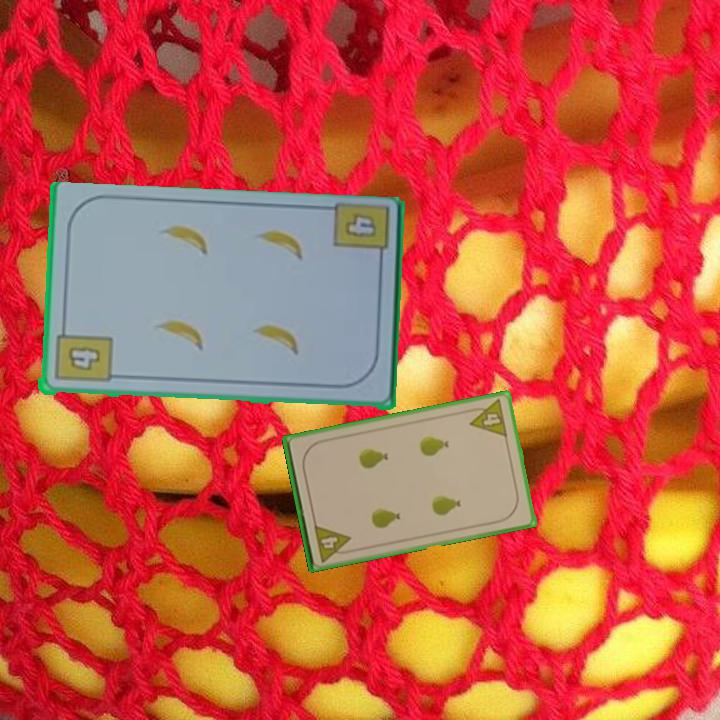4b: (329, 203, 392, 270), (50, 322, 113, 386)
4p: (464, 396, 510, 440), (310, 521, 355, 565)
